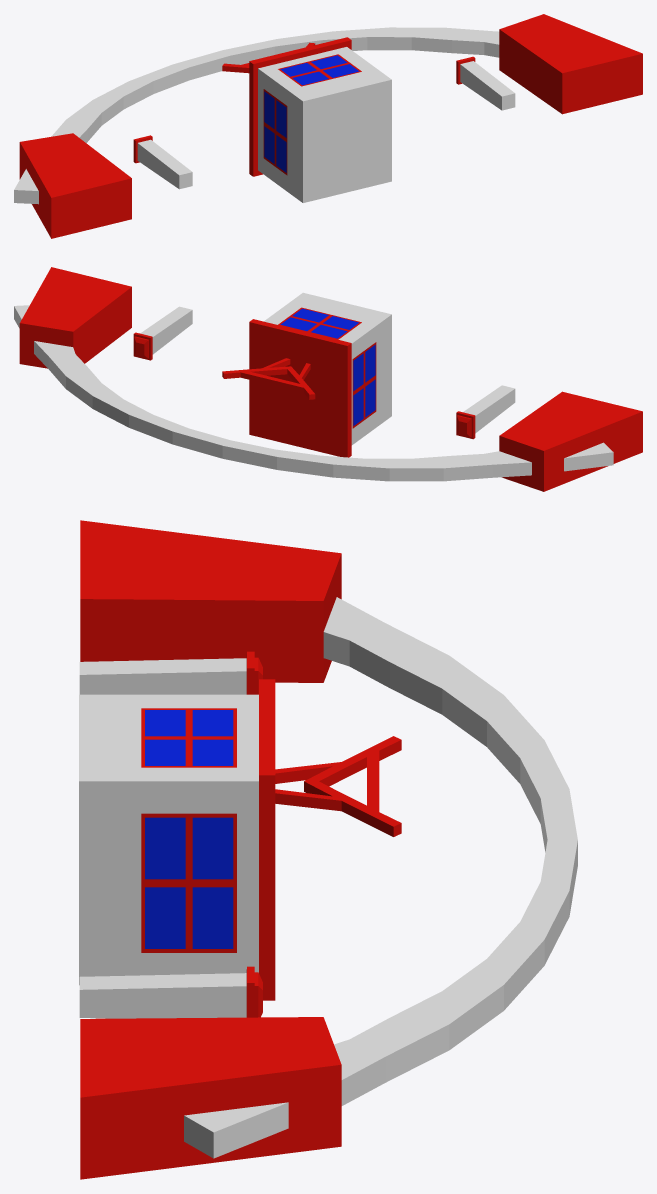
The model's file is main_gate.fbx.
3 renders of one model, top to bottom at view 1: azimuth 30°, elevation 25°; view 2: azimuth 150°, elevation 25°; view 3: azimuth 270°, elevation 25°, orthographic. The views are drawn at different scales.
Parts seen in each view (by area): view 1: Cube.001, Cube, Circle, Cube.002; view 2: Cube.001, Cube, Circle, Cube.002; view 3: Cube, Cube.001, Circle, Cube.002.
Part boxes in pixels (<box>): Cube.001: <box>222,37,391,202</box>; Cube: <box>19,14,642,238</box>; Circle: <box>14,27,499,204</box>; Cube.002: <box>133,56,515,189</box>; Cube.001: <box>222,292,391,457</box>; Cube: <box>19,267,642,491</box>; Circle: <box>14,305,613,481</box>; Cube.002: <box>133,306,515,439</box>; Cube: <box>80,520,341,1179</box>; Cube.001: <box>79,679,401,1000</box>; Circle: <box>184,597,577,1158</box>; Cube.002: <box>79,651,262,1018</box>.
Bounding box in the file's own units: 1658 × 298 × 597.
